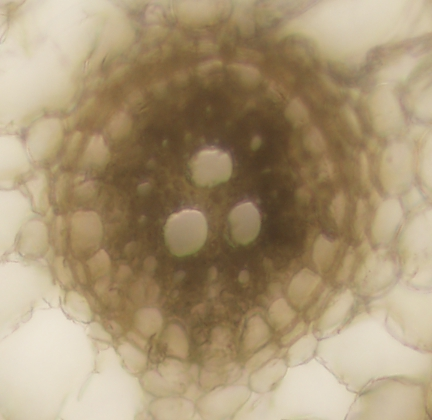lm: (163, 209, 207, 257), (187, 146, 233, 188), (226, 201, 261, 249)
